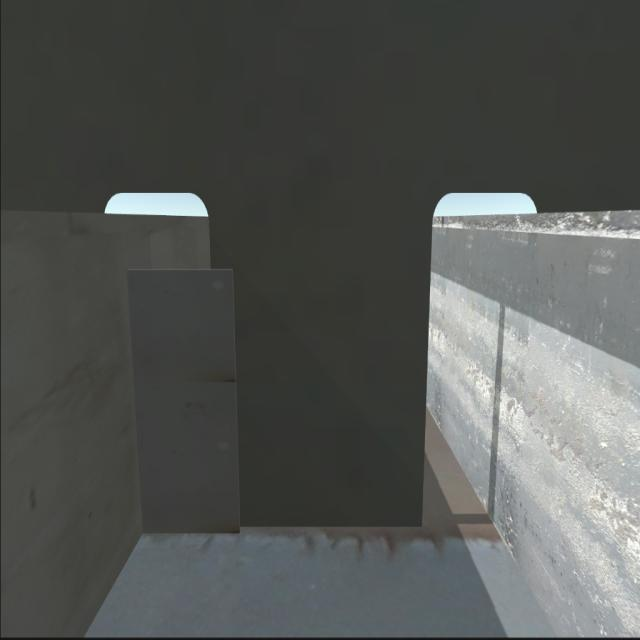fillet_yong_jeop_jang: (143, 516, 433, 545)
longi_yong_jeop_jang: (121, 266, 148, 548)
plate_CP01: (132, 268, 242, 535)
